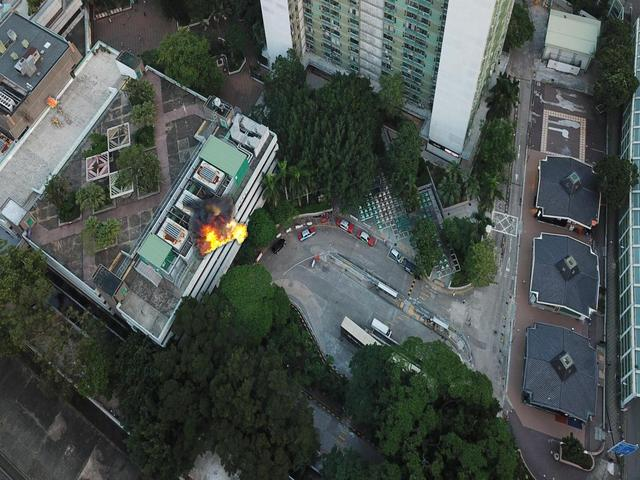fire: (183, 194, 248, 258), (16, 92, 69, 128)
